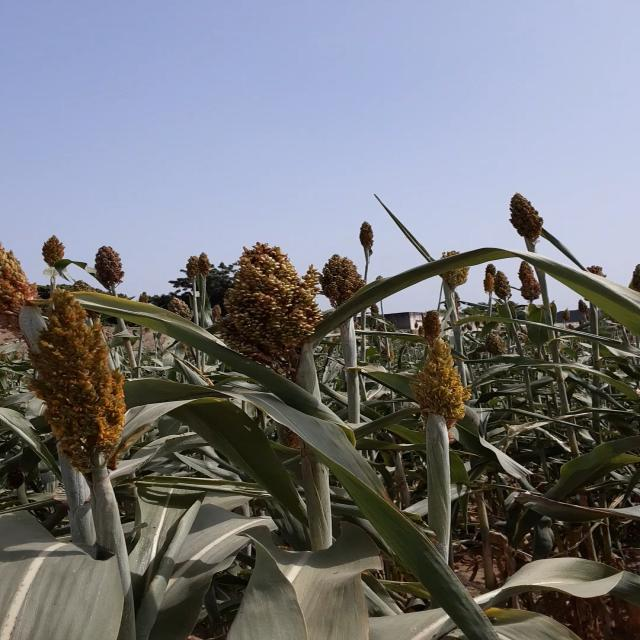UnripeSorghum: (21, 285, 154, 472), (210, 245, 332, 384)
